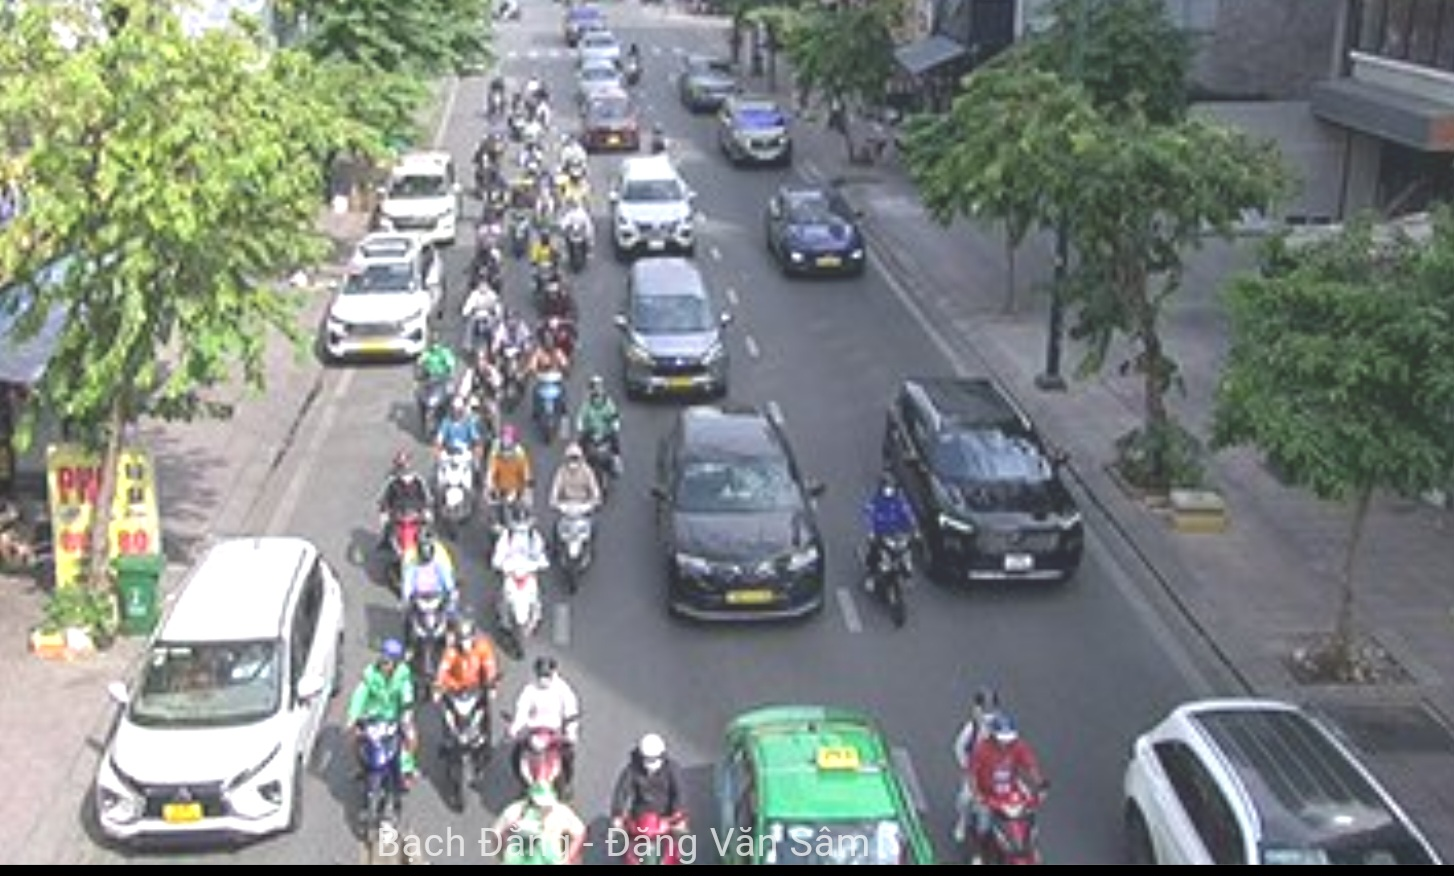car: (95, 543, 345, 847), (1128, 699, 1432, 876), (892, 372, 1076, 594), (643, 410, 831, 627), (708, 708, 932, 876), (621, 261, 728, 402), (328, 235, 440, 361), (764, 186, 869, 280), (608, 159, 701, 260), (379, 149, 461, 242), (720, 95, 793, 174), (582, 92, 640, 152), (682, 54, 736, 112)
